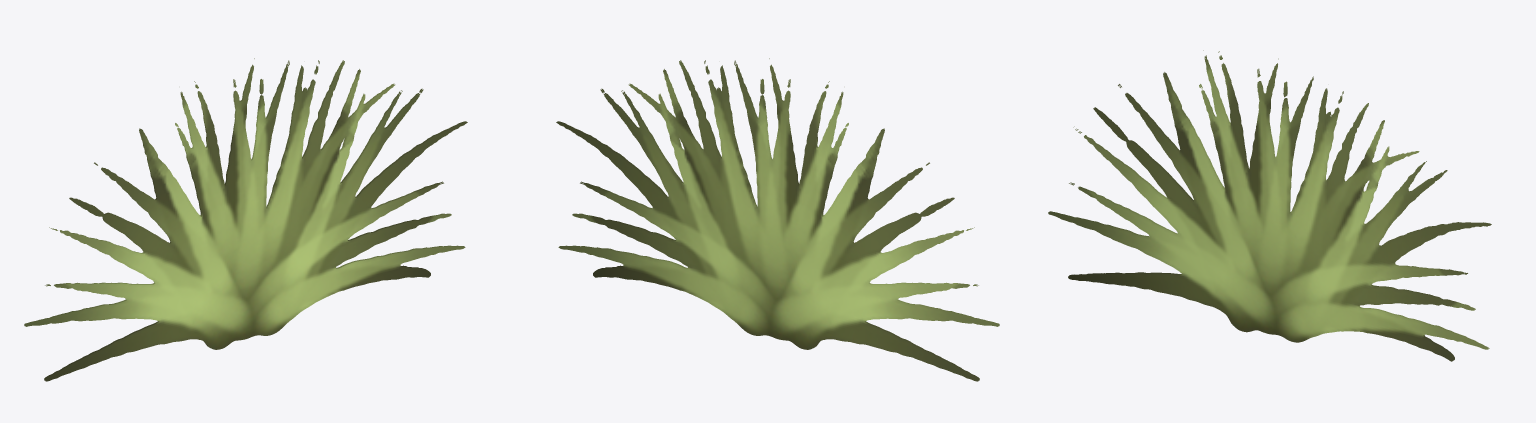
File: HP3_weed1 1.fbx
3 renders of one model, left to right at view 1: azimuth 30°, elevation 25°; view 2: azimuth 150°, elevation 25°; view 3: azimuth 330°, elevation 25°, orthographic.
Parts seen in each view (by area): view 1: HP3_weed1; view 2: HP3_weed1; view 3: HP3_weed1.
Boxes of the visible parts, left/top/right/bottom form: HP3_weed1: left=24, top=58, right=467, bottom=381; HP3_weed1: left=556, top=58, right=999, bottom=381; HP3_weed1: left=1048, top=50, right=1491, bottom=361.
Bounding box in the file's own units: 10 × 6.65 × 0.04.
